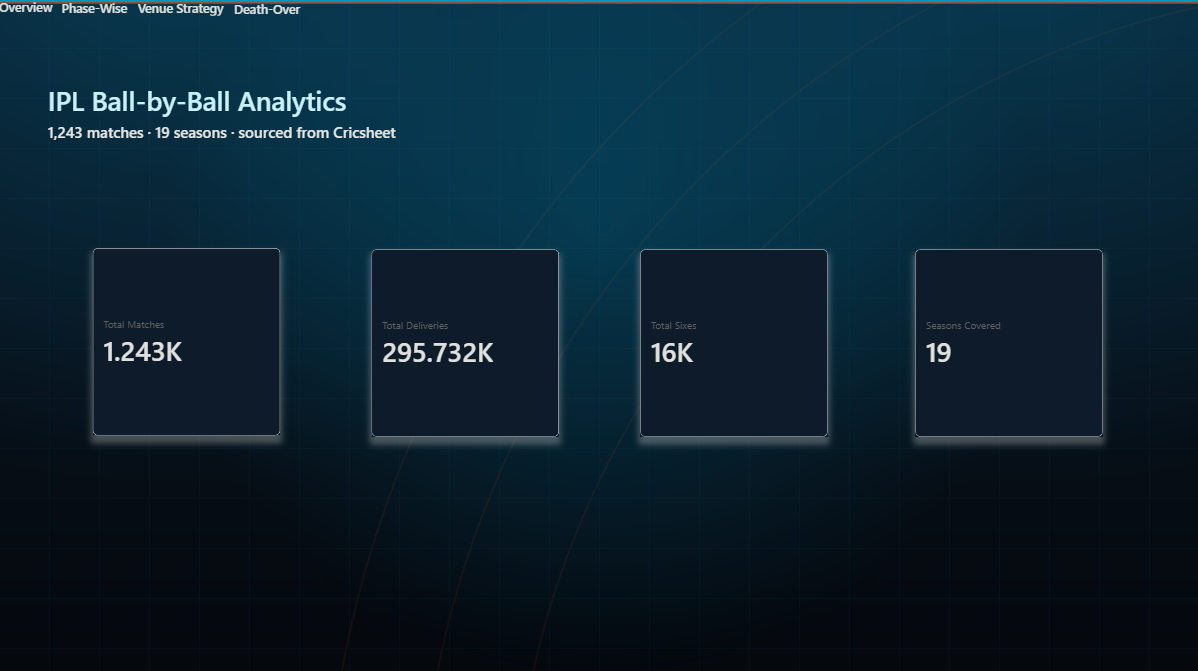

The page's visual inventory and layout, read from the dashboard file:
{"tool":"powerbi","page":{"name":"Overview","canvas":[1920,1080],"ordinal":0},"visuals":[{"type":"image","box":[0,0,1920,1080],"z":0},{"type":"cardVisual","fields":{"Data":["CountNonNull(public matches.match_id)"]},"box":[150.3,399.3,300,300],"z":1000},{"type":"cardVisual","fields":{"Data":["CountNonNull(public deliveries.delivery_row_id)"]},"box":[595.4,401.7,300,300],"z":2000},{"type":"cardVisual","fields":{"Data":["Count(public matches.season)"]},"box":[1465.8,401.7,300,300],"z":3000},{"type":"cardVisual","fields":{"Data":["public deliveries.Total Sixes"]},"box":[1026.1,401.7,300,300],"z":4000},{"type":"textbox","title":"IPL Ball-by-Ball Analytics","box":[77.8,133.9,494,64],"z":5000},{"type":"textbox","box":[77.8,197.3,654.5,43.2],"z":6000},{"type":"actionButton","title":"Overview","box":[0,0,100,30],"z":7000},{"type":"actionButton","title":"Phase-Wise","box":[99.5,1.8,119.4,29],"z":8000},{"type":"actionButton","title":"Venue Strategy","box":[222.6,1.8,153.8,30.8],"z":9000},{"type":"actionButton","title":"Death-Over Bowlers","box":[376.4,3.6,117.6,30.8],"z":10000}]}

Visuals, with their boxes in screenshot pixels (x1, y1, x2, y2), scaled from the page's 1920x1080 canvas onto the 1198x671 screenshot:
image: detection(0, 0, 1197, 670)
cardVisual - CountNonNull(public matches.match_id): detection(94, 248, 281, 434)
cardVisual - CountNonNull(public deliveries.delivery_row_id): detection(372, 250, 559, 436)
cardVisual - Count(public matches.season): detection(915, 250, 1102, 436)
cardVisual - public deliveries.Total Sixes: detection(640, 250, 827, 436)
"IPL Ball-by-Ball Analytics" textbox: detection(49, 83, 357, 123)
textbox: detection(49, 123, 457, 149)
"Overview" actionButton: detection(0, 0, 62, 19)
"Phase-Wise" actionButton: detection(62, 1, 137, 19)
"Venue Strategy" actionButton: detection(139, 1, 235, 20)
"Death-Over Bowlers" actionButton: detection(235, 2, 308, 21)
